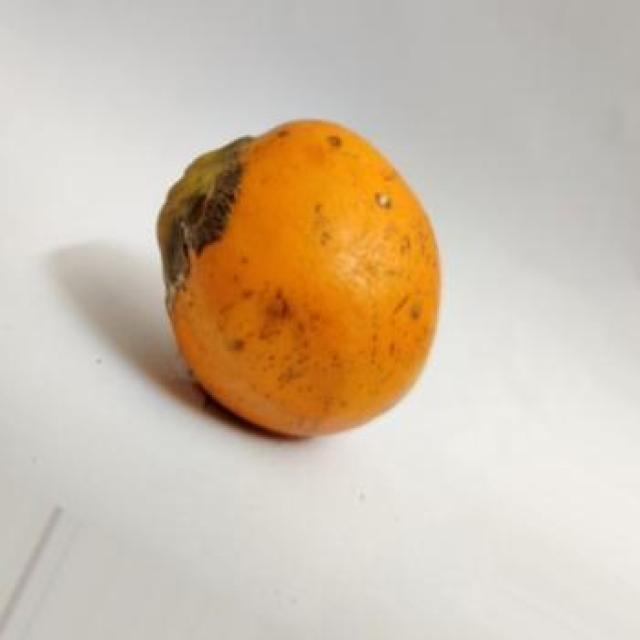good: (155, 119, 443, 441)
